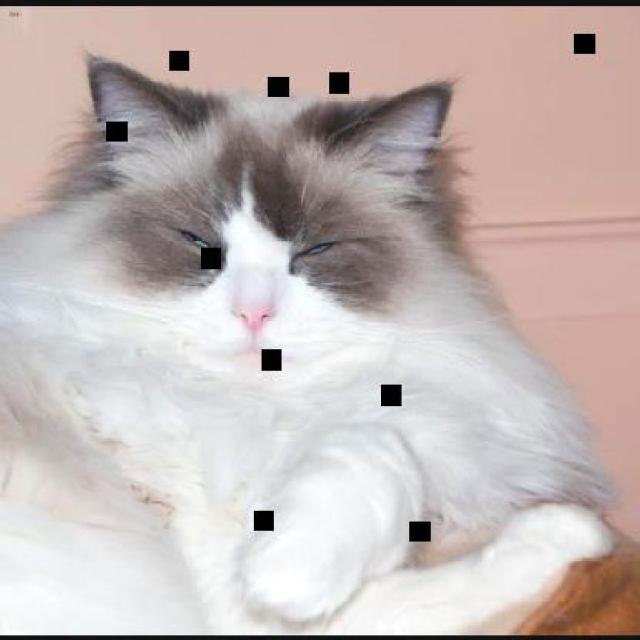unauthorized: (0, 49, 622, 634)
